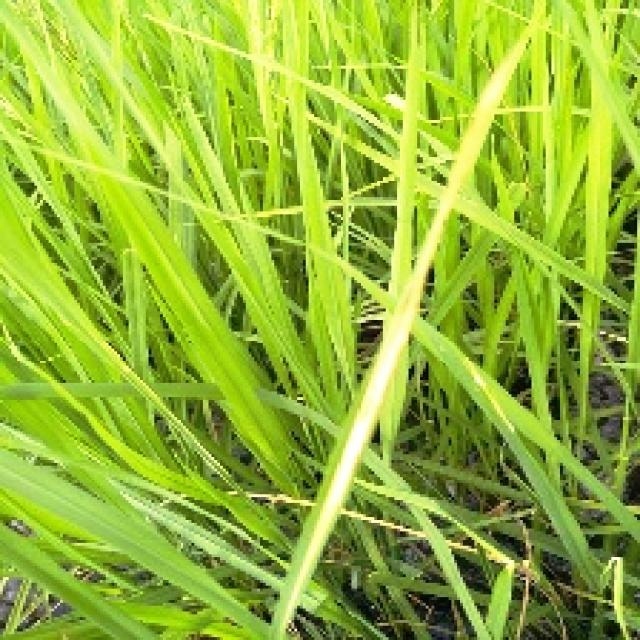unhealth: (268, 30, 532, 640)
